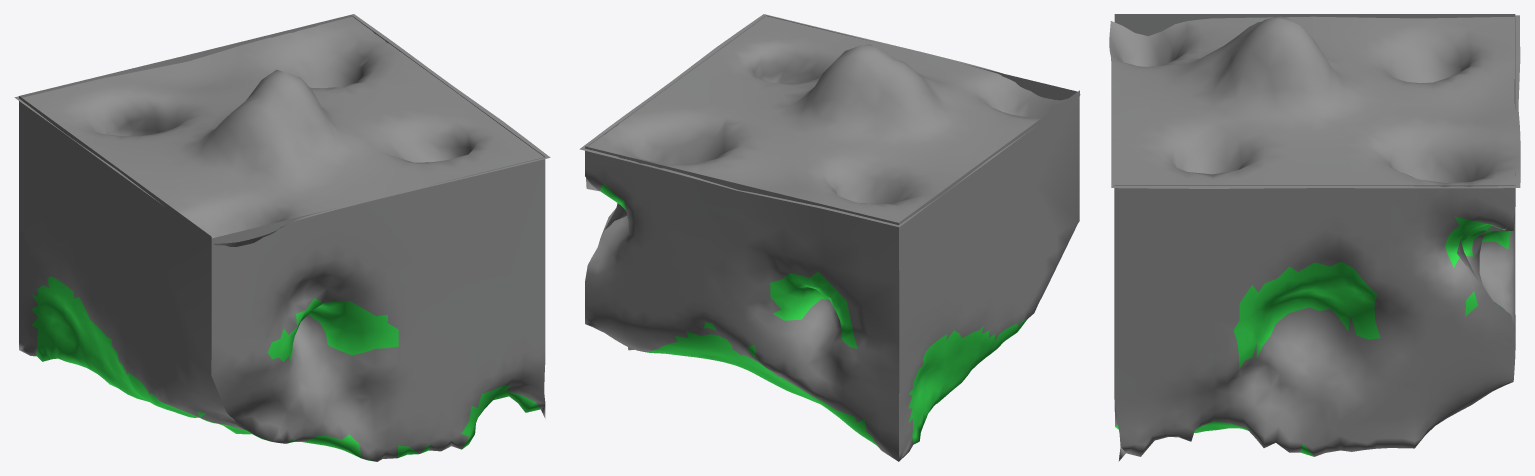
File: Grotte.glb
The picture shows the model from 3 angles, left to right: view 1: azimuth 30°, elevation 25°; view 2: azimuth 150°, elevation 25°; view 3: azimuth 270°, elevation 25°; orthographic projection. The views are drawn at different scales.
Visible parts, largest first — view 1: Plan, Plan.001; view 2: Plan, Plan.001; view 3: Plan, Plan.001.
Boxes of the visible parts, x1,y1,x2,y2 form: Plan: (19, 14, 545, 461); Plan.001: (14, 14, 550, 246); Plan: (585, 15, 1079, 461); Plan.001: (579, 14, 1080, 227); Plan: (1114, 14, 1515, 461); Plan.001: (1109, 15, 1520, 188).
Size of the model in its own units: 144 by 139 by 144.
